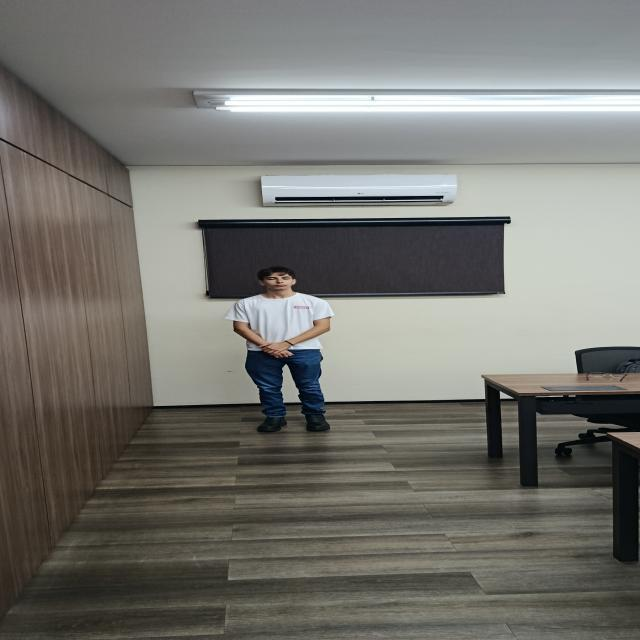sem_oculos: (258, 277, 296, 282)
